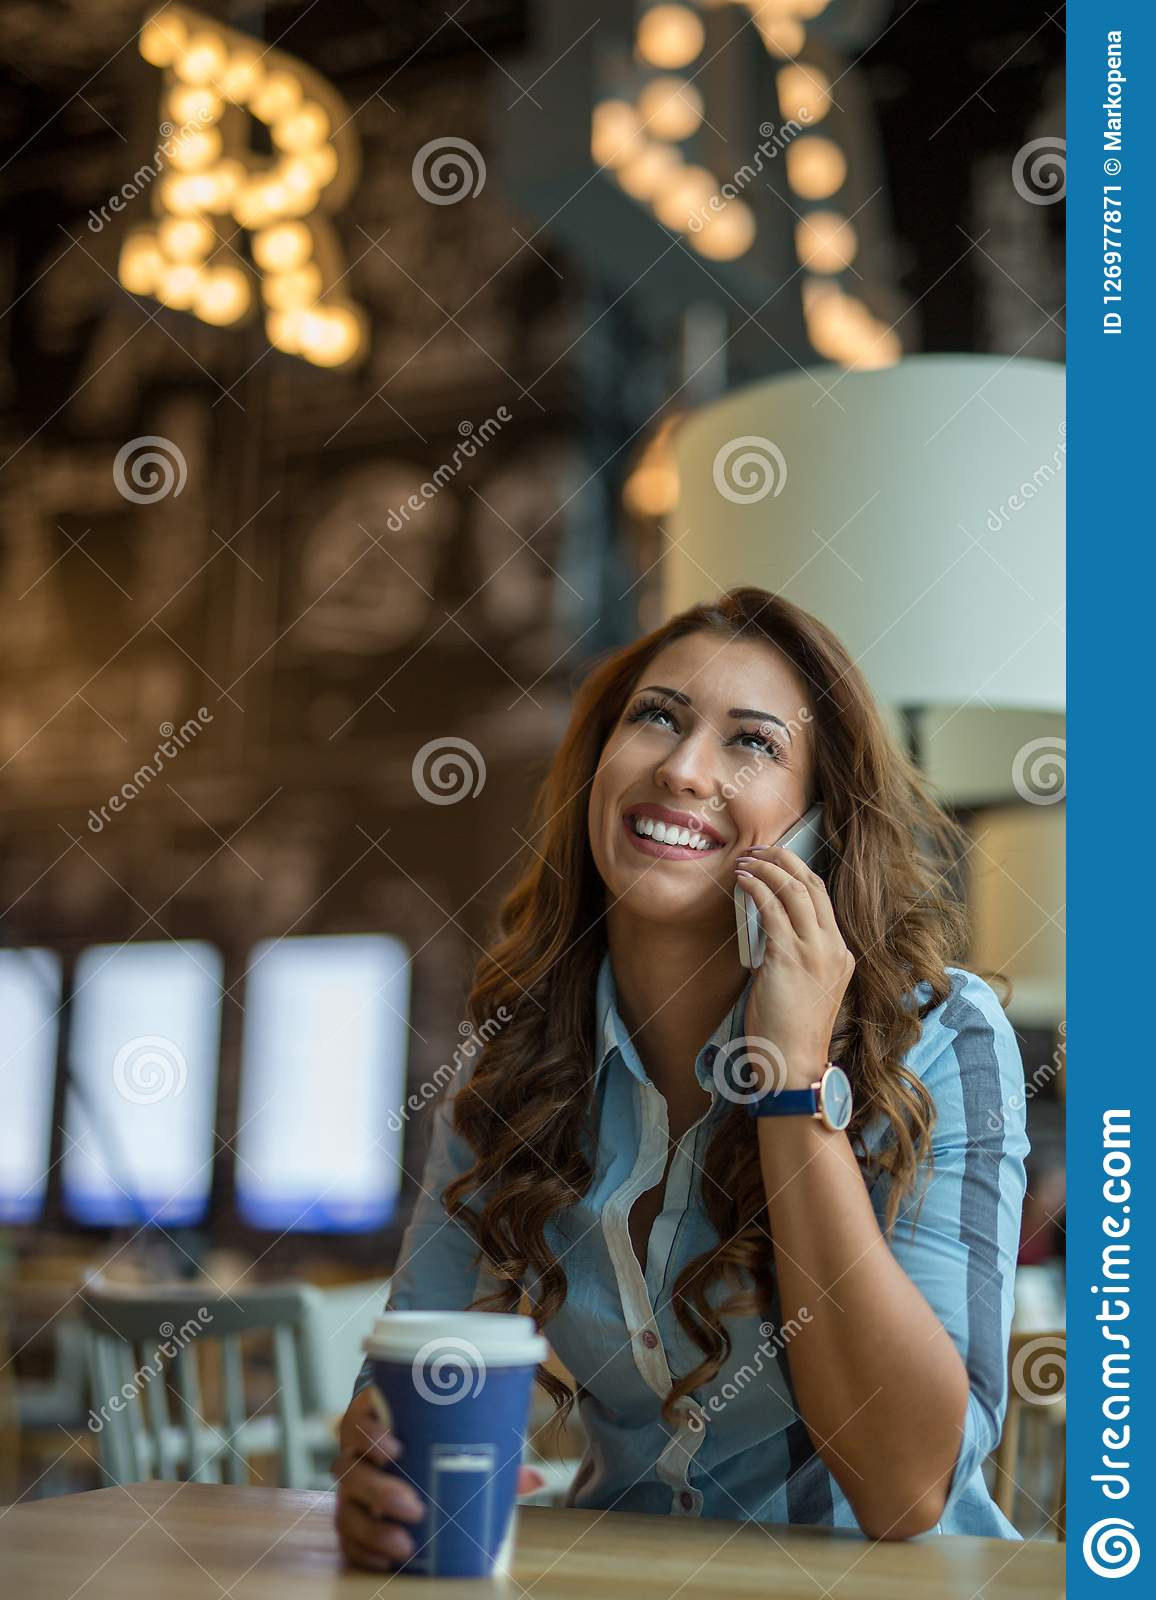phone: (733, 783, 841, 975)
talk: (589, 677, 859, 1075)
